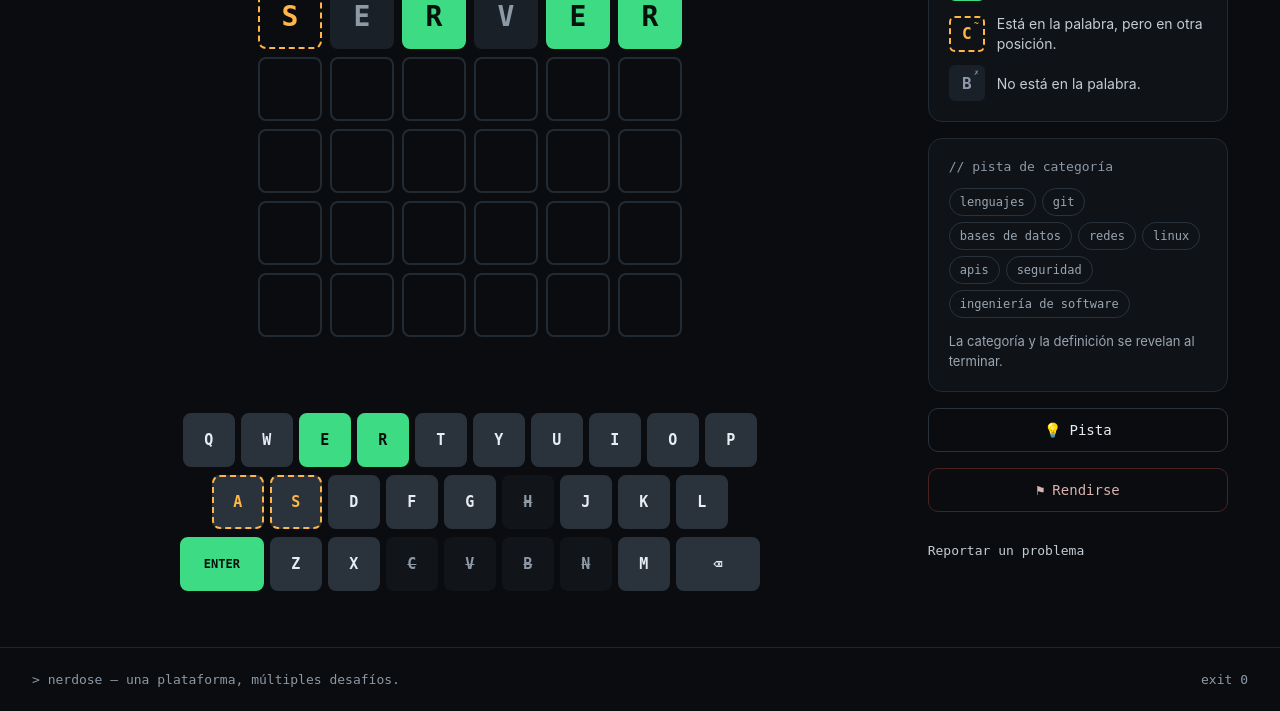
Test: envío › TS-15: rate_limited muestra el límite y conserva los campos
(page scrolled)
Click the button "Reportar un problema" at {"x": 1078, "y": 550}, box [928,528,1228,572]
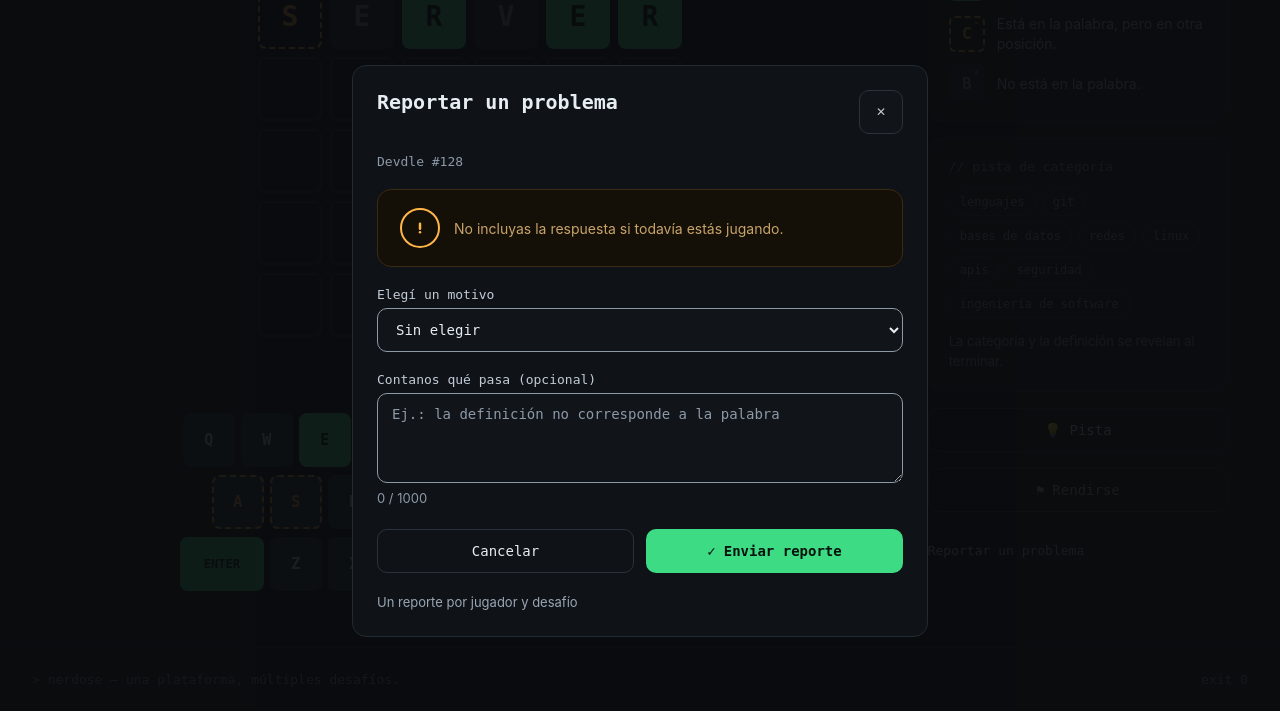
Select "Error de visualización" in the dropdown labelled "Elegí un motivo" at {"x": 640, "y": 330}, box [377,308,903,352]
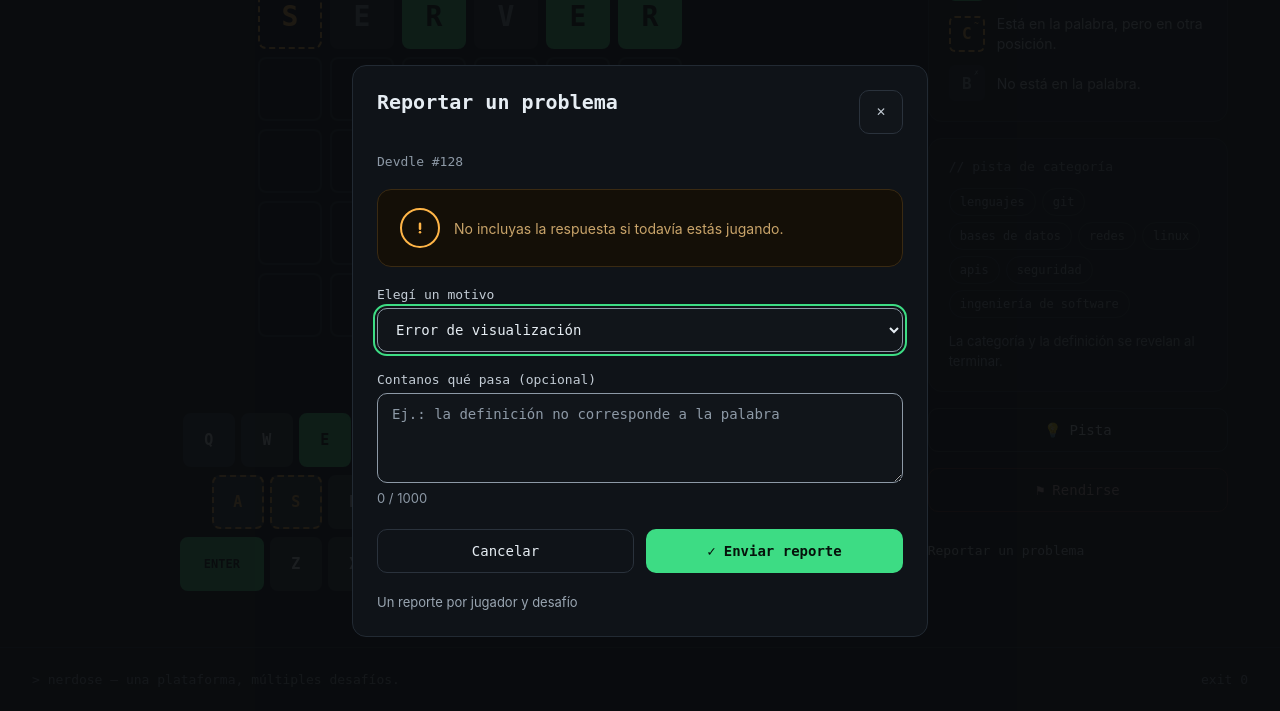
Type "se corta" into the text box labelled "Contanos qué pasa (opcional)" at {"x": 640, "y": 438}, box [377,393,903,483]
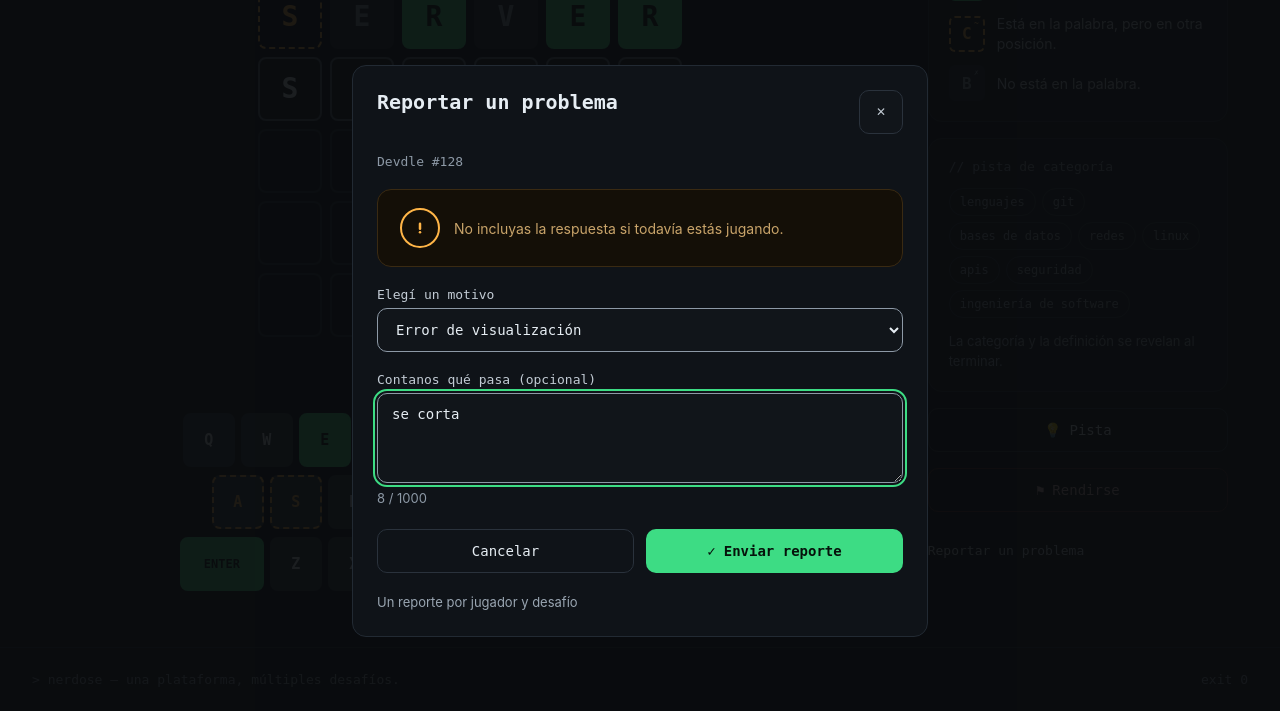
Click the button "✓ Enviar reporte" at {"x": 774, "y": 550}, box [646,528,903,572]
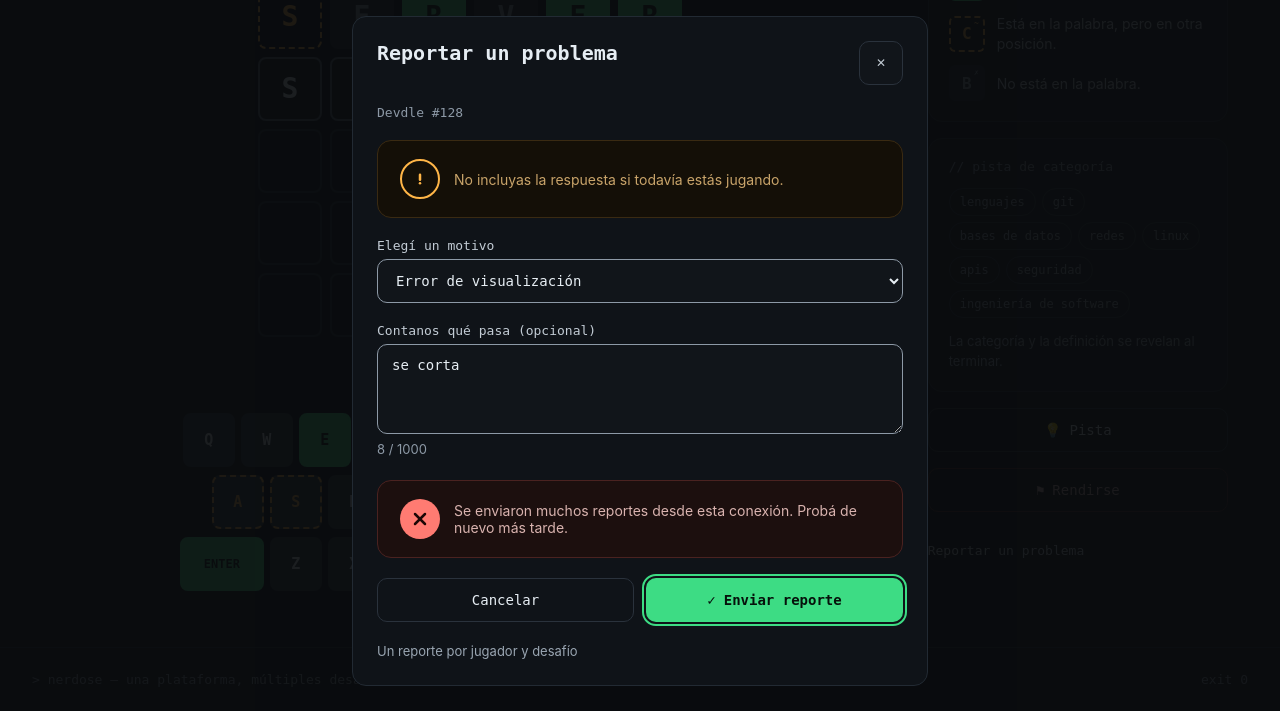
Expected: the message reads "Se enviaron muchos reportes desde esta conexión. Probá de nuevo más tarde.", [454,502,857,536]
